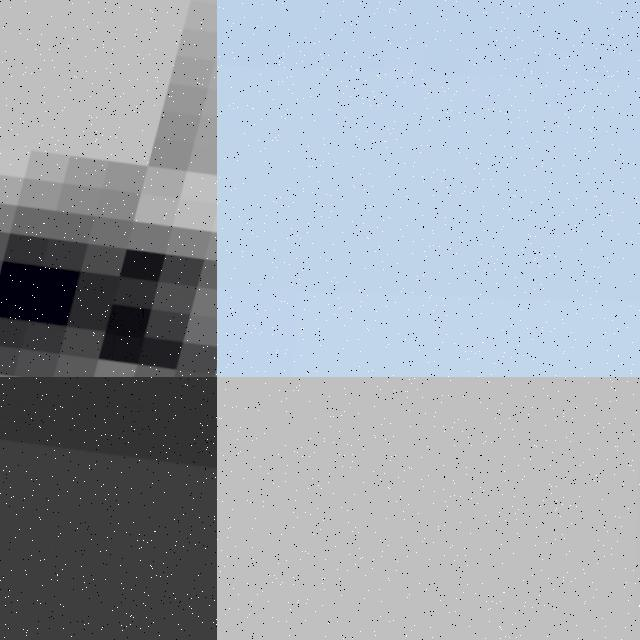drone: (0, 0, 217, 377), (0, 377, 217, 640)
